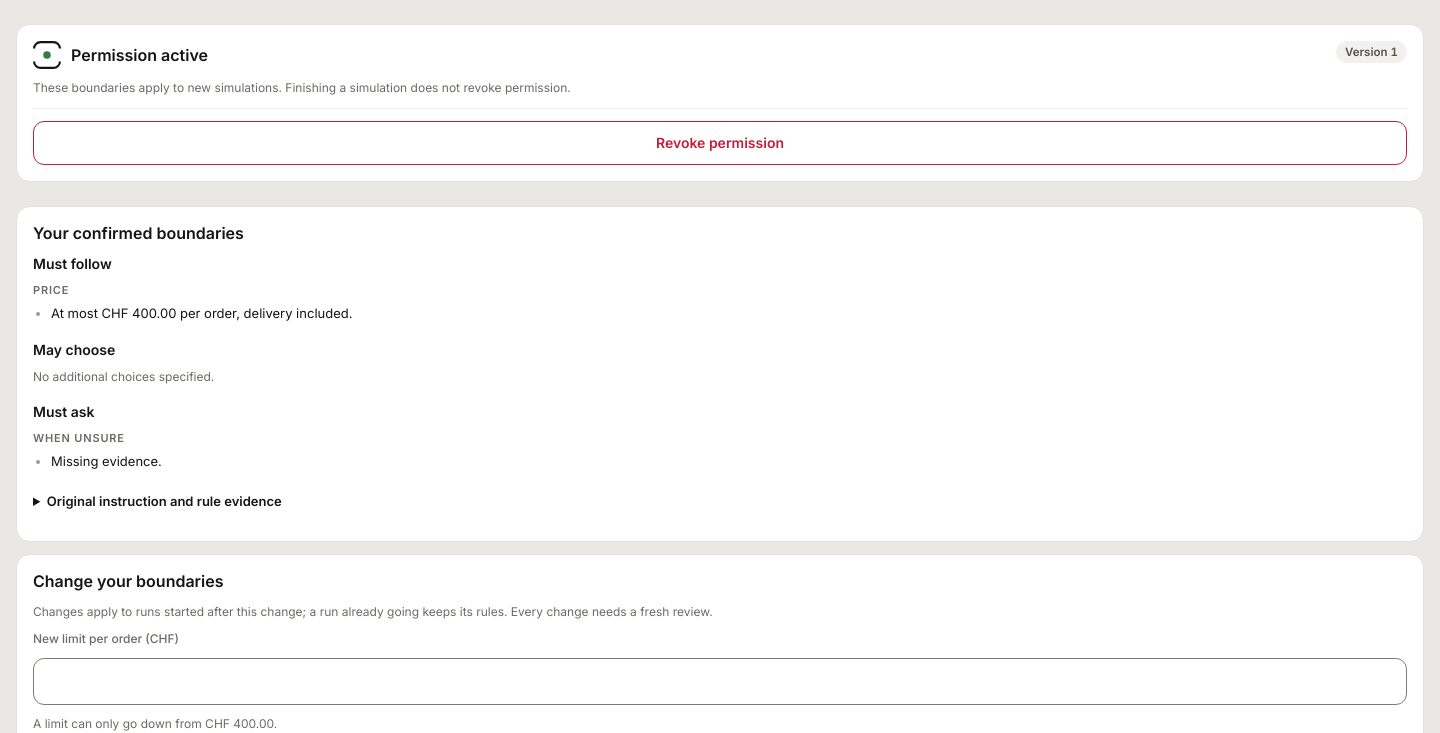
Test case: Permission screen › a revoke Viseca did not confirm is shown as still active
This screenshot has width=1440, height=733.
What coordinates should you click on to do the following:
click the button "Revoke permission"
I would click on:
 (720, 143)
Its box is [33,121,1407,165].
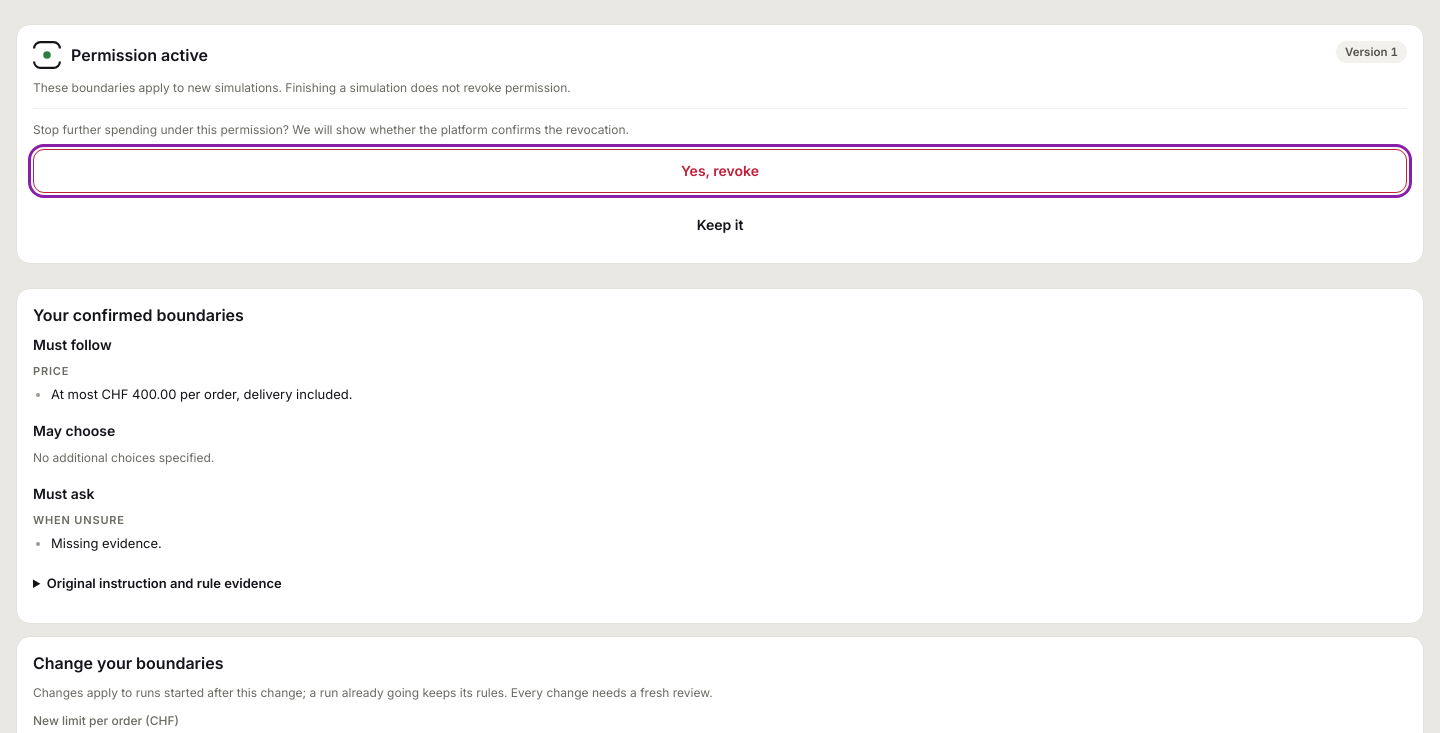
What coordinates should you click on to do the following:
click the button "Yes, revoke"
I would click on:
 (720, 171)
Its box is [33,149,1407,193].
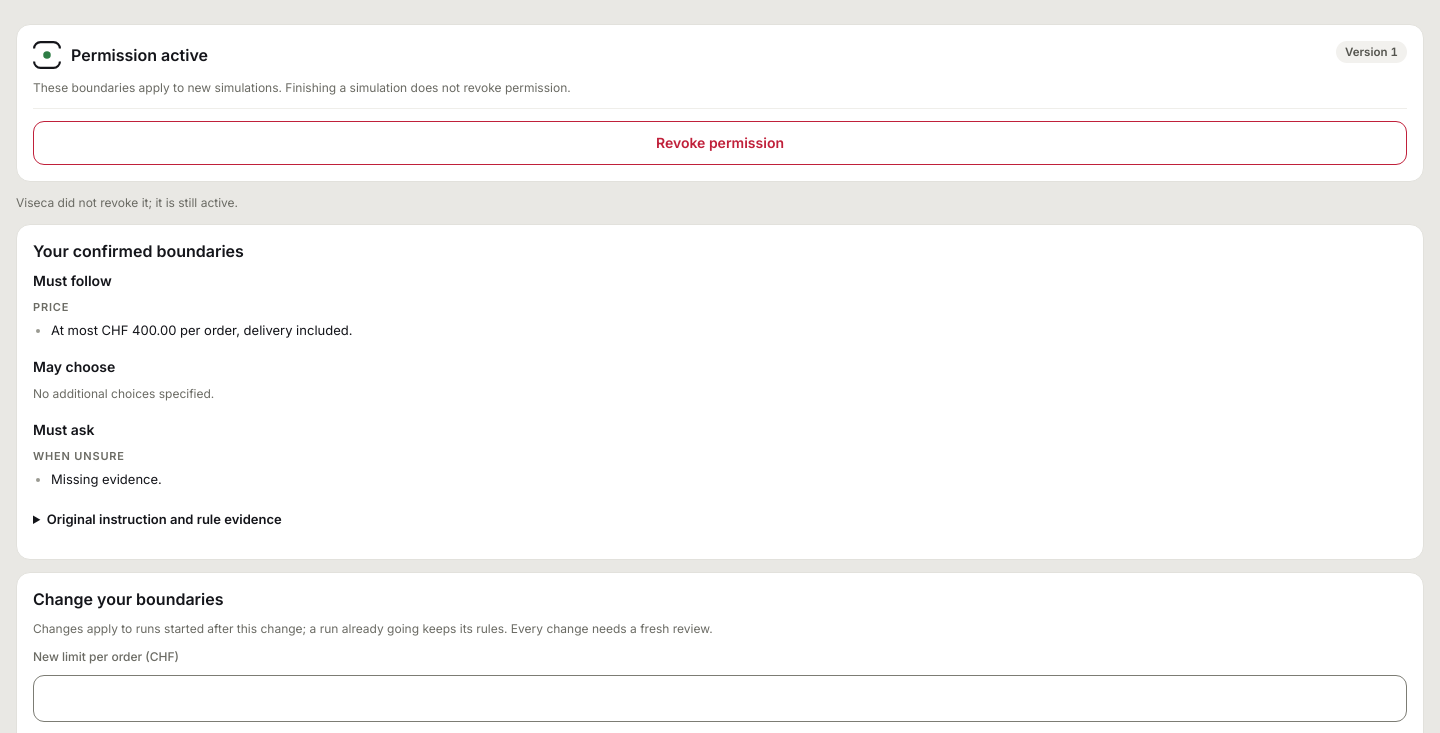
Now the message shows "still active", box [16,195,238,210]
